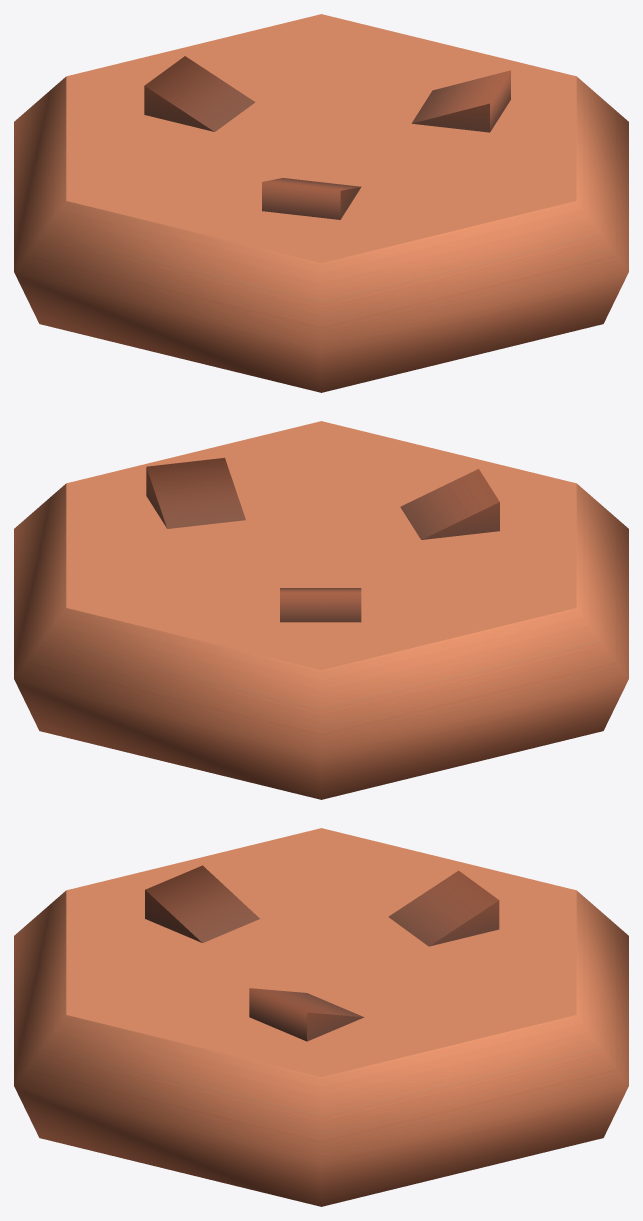
Rendered from cookie.obj.
3 views of the same model, one above another, from view 1: azimuth 30°, elevation 25°; view 2: azimuth 150°, elevation 25°; view 3: azimuth 270°, elevation 25° (orthographic).
Visible parts, largest first — view 1: cookie; view 2: cookie; view 3: cookie.
Part boxes in pixels (<box>): cookie: <box>14,14,628,392</box>; cookie: <box>14,421,628,799</box>; cookie: <box>14,828,628,1206</box>.
Size of the model in its own units: 0.2197 by 0.0498 by 0.1903.
1 material, 1 textured.
